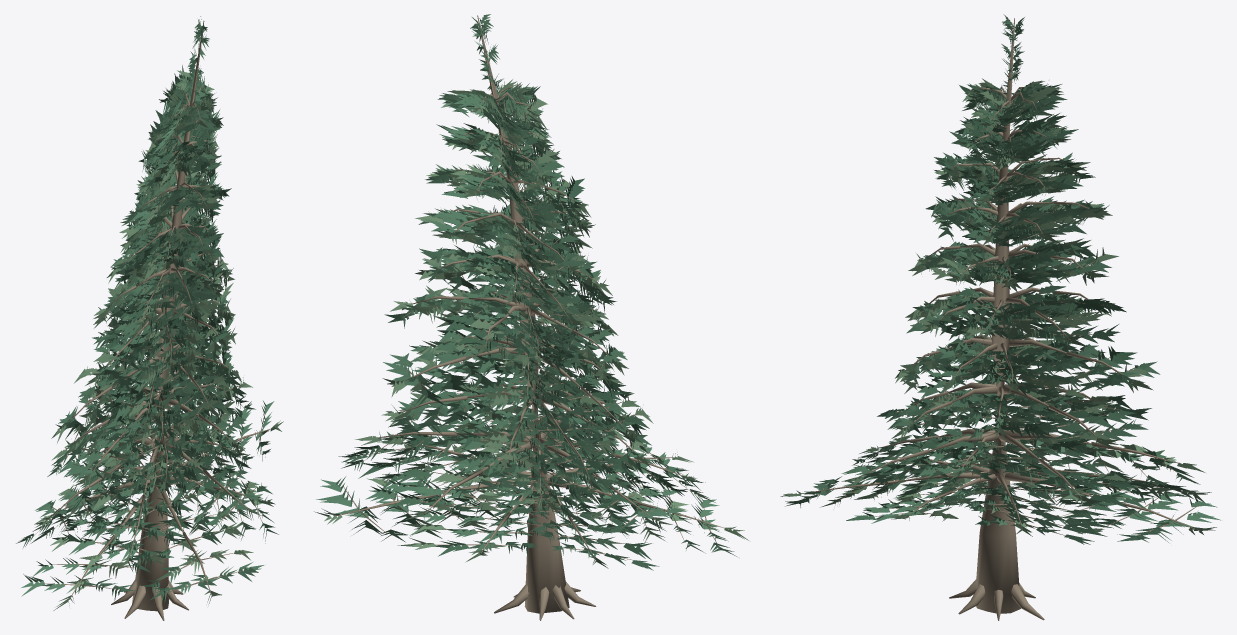
The model's file is cedar_6.glb.
3 views of the same model, side by side, from view 1: azimuth 30°, elevation 25°; view 2: azimuth 150°, elevation 25°; view 3: azimuth 270°, elevation 25° (orthographic). The views are drawn at different scales.
Parts seen in each view (by area): view 1: tree_conifer_ConiferLeaf, tree_conifer_ConiferLeafLight, tree_conifer_ConiferBark, tree_conifer_ConiferLeafDark; view 2: tree_conifer_ConiferLeaf, tree_conifer_ConiferLeafLight, tree_conifer_ConiferLeafDark, tree_conifer_ConiferBark; view 3: tree_conifer_ConiferLeaf, tree_conifer_ConiferBark, tree_conifer_ConiferLeafLight, tree_conifer_ConiferLeafDark.
Boxes of the visible parts, x1=… form: tree_conifer_ConiferLeaf: x1=16, y1=16, x2=274, y2=600; tree_conifer_ConiferLeafLight: x1=34, y1=64, x2=283, y2=610; tree_conifer_ConiferBark: x1=33, y1=20, x2=270, y2=620; tree_conifer_ConiferLeafDark: x1=30, y1=73, x2=278, y2=602; tree_conifer_ConiferLeaf: x1=316, y1=14, x2=736, y2=570; tree_conifer_ConiferLeafLight: x1=314, y1=79, x2=748, y2=568; tree_conifer_ConiferLeafDark: x1=343, y1=86, x2=705, y2=565; tree_conifer_ConiferBark: x1=336, y1=15, x2=728, y2=620; tree_conifer_ConiferLeaf: x1=785, y1=14, x2=1220, y2=544; tree_conifer_ConiferBark: x1=800, y1=18, x2=1198, y2=620; tree_conifer_ConiferLeafLight: x1=780, y1=78, x2=1216, y2=536; tree_conifer_ConiferLeafDark: x1=819, y1=85, x2=1195, y2=528.
Bounding box in the file's own units: 8.6 × 14.43 × 9.32.
